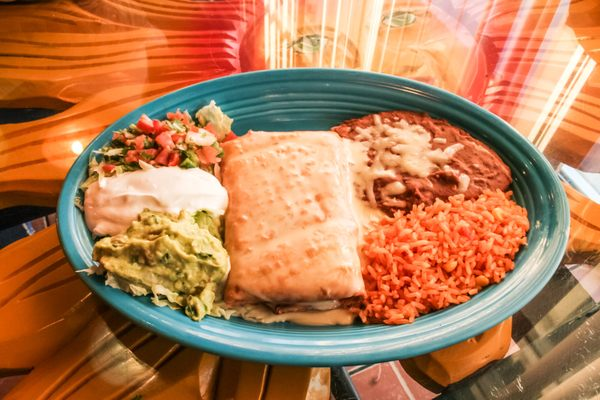soup: (217, 126, 370, 326)
sushi: (42, 71, 570, 369)
